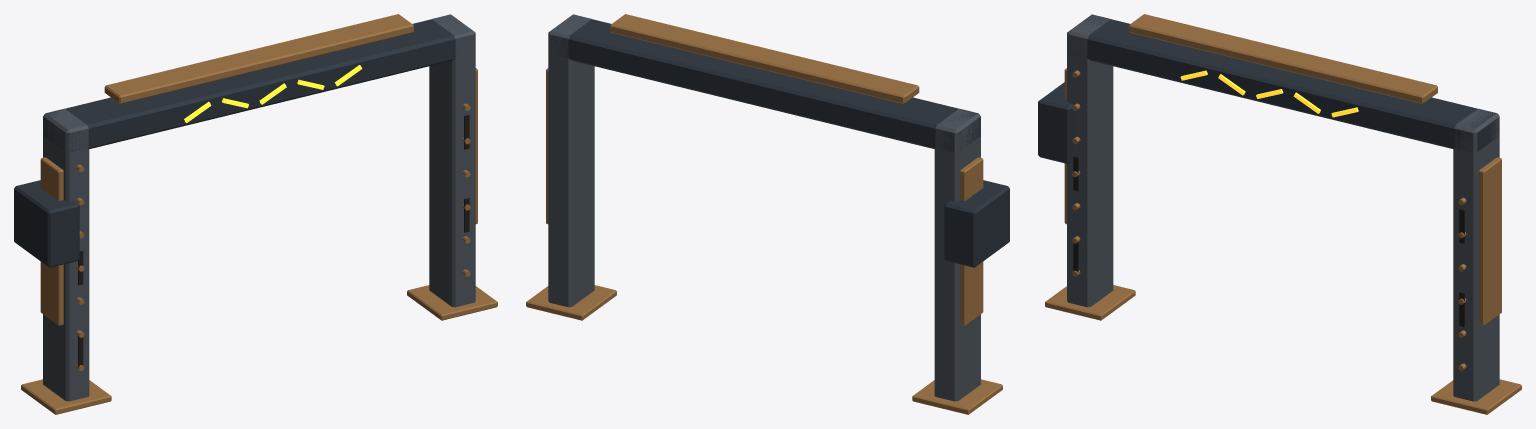
The model's file is runtime.glb.
The picture shows the model from 3 angles, left to right: view 1: azimuth 30°, elevation 25°; view 2: azimuth 150°, elevation 25°; view 3: azimuth 330°, elevation 25°; orthographic projection.
Visible parts, largest first — view 1: kinetic-tide-machine-frame-v03_plate_nocol, kinetic-tide-machine-frame-v03_steel_nocol, kinetic-tide-machine-frame-v03_bronze_nocol, kinetic-tide-machine-frame-v03_warningorange_nocol, kinetic-tide-machine-frame-v03_weardark_nocol; view 2: kinetic-tide-machine-frame-v03_plate_nocol, kinetic-tide-machine-frame-v03_steel_nocol, kinetic-tide-machine-frame-v03_bronze_nocol; view 3: kinetic-tide-machine-frame-v03_plate_nocol, kinetic-tide-machine-frame-v03_steel_nocol, kinetic-tide-machine-frame-v03_bronze_nocol, kinetic-tide-machine-frame-v03_warningorange_nocol, kinetic-tide-machine-frame-v03_weardark_nocol.
Boxes of the visible parts, x1=… form: kinetic-tide-machine-frame-v03_plate_nocol: x1=43, y1=14, x2=475, y2=401; kinetic-tide-machine-frame-v03_steel_nocol: x1=14, y1=17, x2=459, y2=267; kinetic-tide-machine-frame-v03_bronze_nocol: x1=21, y1=14, x2=497, y2=414; kinetic-tide-machine-frame-v03_warningorange_nocol: x1=184, y1=65, x2=362, y2=122; kinetic-tide-machine-frame-v03_weardark_nocol: x1=78, y1=115, x2=469, y2=366; kinetic-tide-machine-frame-v03_plate_nocol: x1=548, y1=14, x2=980, y2=401; kinetic-tide-machine-frame-v03_steel_nocol: x1=550, y1=17, x2=1009, y2=267; kinetic-tide-machine-frame-v03_bronze_nocol: x1=526, y1=14, x2=1002, y2=414; kinetic-tide-machine-frame-v03_plate_nocol: x1=1067, y1=14, x2=1499, y2=401; kinetic-tide-machine-frame-v03_steel_nocol: x1=1038, y1=14, x2=1498, y2=163; kinetic-tide-machine-frame-v03_bronze_nocol: x1=1045, y1=14, x2=1521, y2=414; kinetic-tide-machine-frame-v03_warningorange_nocol: x1=1180, y1=70, x2=1358, y2=117; kinetic-tide-machine-frame-v03_weardark_nocol: x1=1073, y1=156, x2=1464, y2=326.
Size of the model in its own units: 13.62 by 8.5 by 1.87.
